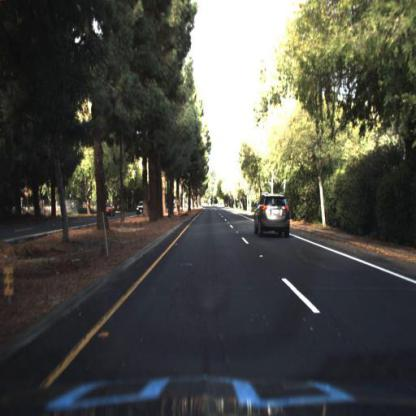car: (255, 192, 291, 238), (103, 200, 117, 220), (135, 200, 146, 217)
